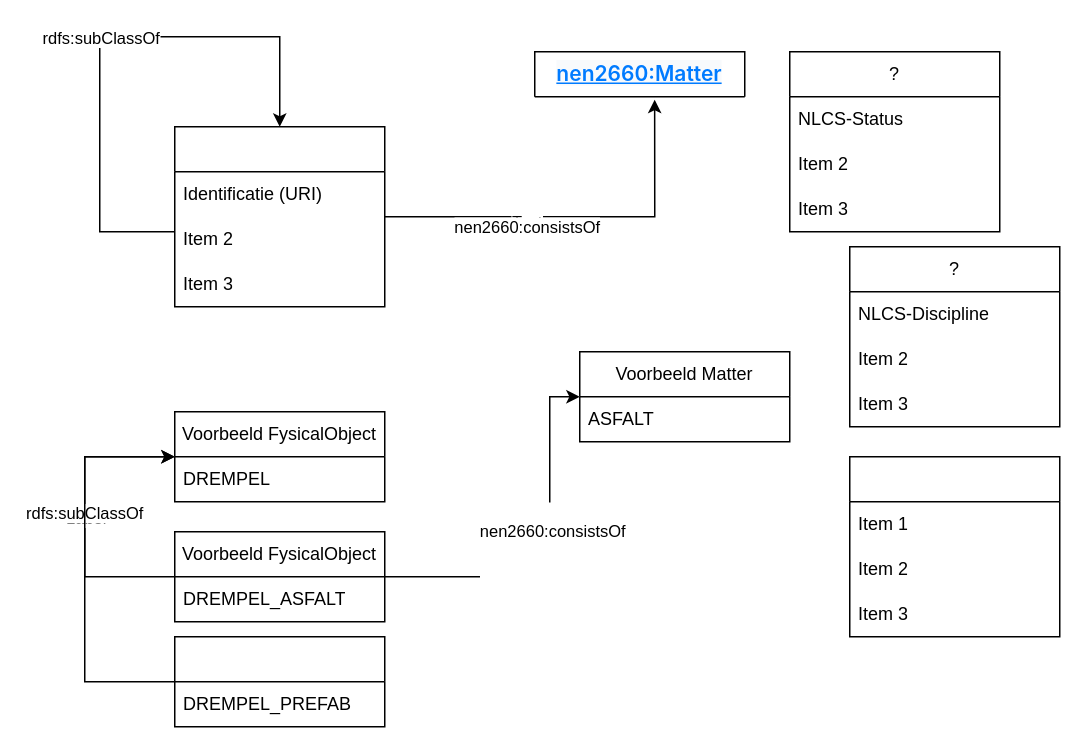
The diagram is 1086 pixels wide and 753 high, and some of its shapes have lost their labels. Each missing label, with the box of its shape:
List: (173, 635, 385, 727)
nen2660:Activity: (848, 455, 1060, 637)
nen2660:PhysicalObject: (173, 125, 385, 307)
